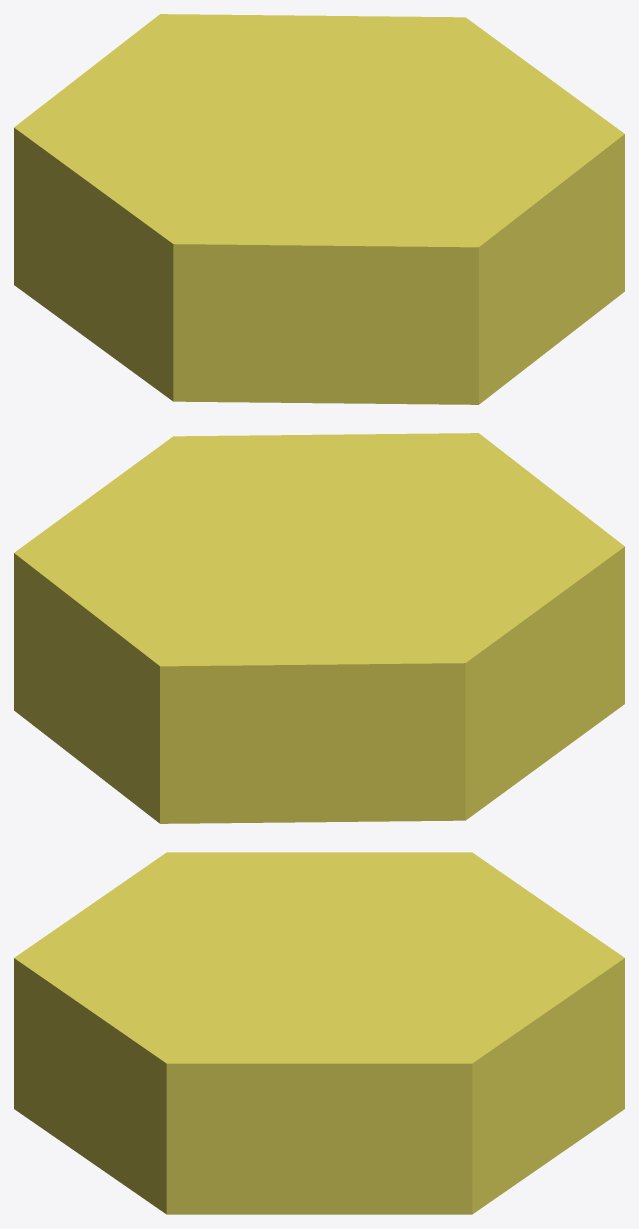
The model's file is banana slice.fbx.
The picture shows the model from 3 angles, top to bottom: view 1: azimuth 30°, elevation 25°; view 2: azimuth 150°, elevation 25°; view 3: azimuth 270°, elevation 25°; orthographic projection. The views are drawn at different scales.
Visible parts, largest first — view 1: banana slice; view 2: banana slice; view 3: banana slice.
Part boxes in pixels (box(x1,y1,x2,y2)): banana slice: box(14, 14, 624, 404); banana slice: box(14, 433, 624, 823); banana slice: box(14, 852, 624, 1214).
Size of the model in its own units: 0.9 by 1.1 by 0.3.
